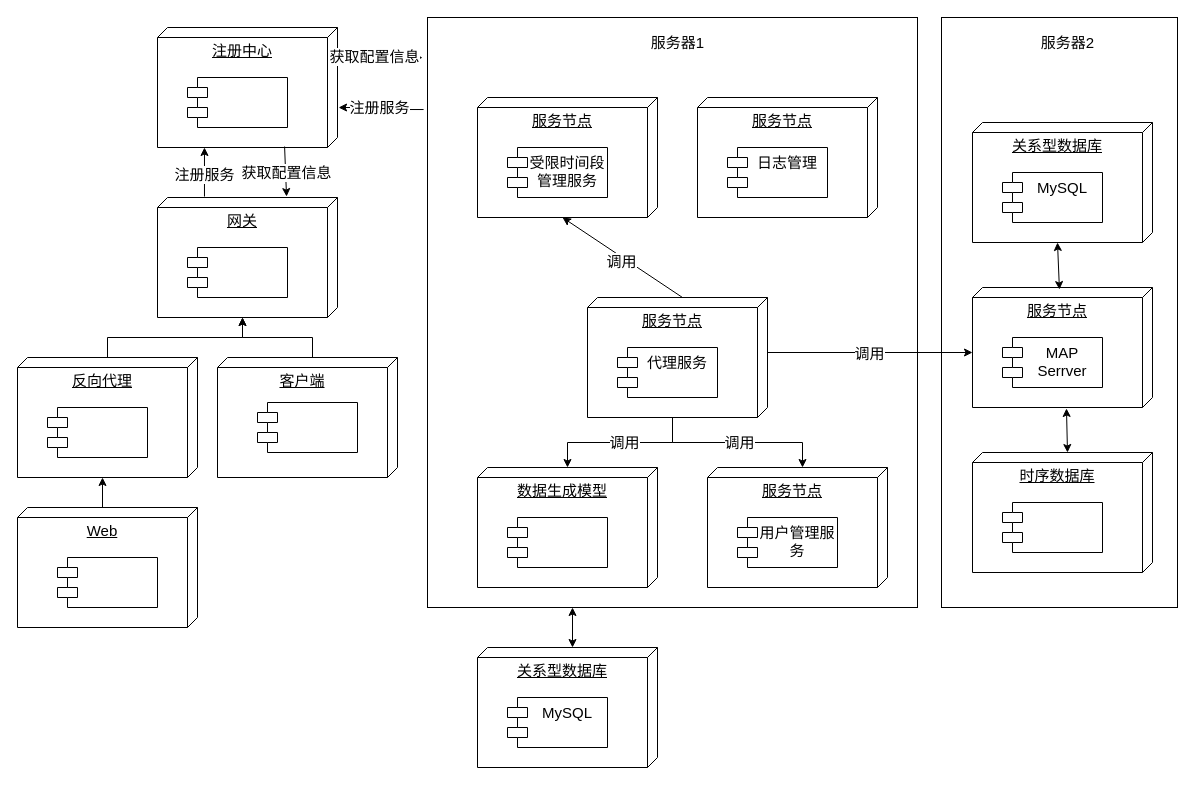
This 1195x785 diagram has some shape labels left out. The shapes that lost their labels are listed below. From the top down, each one's centre as x and y in pixels, then its label:
At pixel 237 102: "Nacos".
At pixel 237 272: "Gateway".
At pixel 97 432: "Nginx".
At pixel 307 427: "Python SDK".
At pixel 557 542: "生成模型".
At pixel 1052 527: "TDengine".
At pixel 107 582: "Chorme、Edge".
